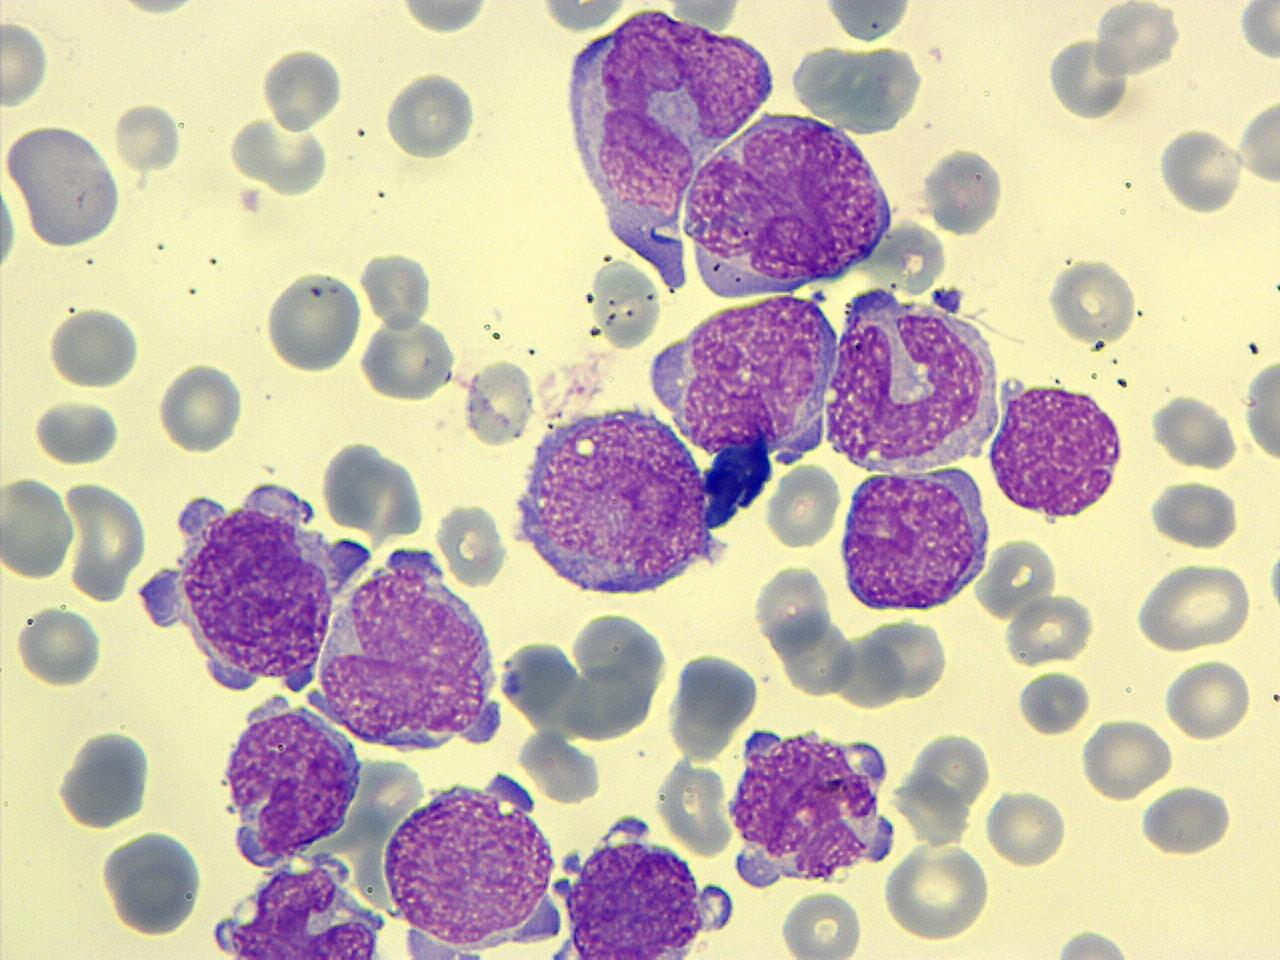Platelets: (54, 728, 156, 830), (1264, 544, 1280, 622)
RBC: (4, 120, 126, 251), (98, 826, 206, 944), (1134, 557, 1256, 655), (883, 838, 993, 943), (60, 476, 150, 602), (262, 267, 364, 375), (357, 314, 459, 404), (383, 67, 479, 162), (155, 357, 247, 455), (47, 303, 143, 392), (1081, 713, 1175, 803), (0, 471, 76, 582), (1155, 124, 1245, 217), (1045, 254, 1139, 343), (226, 113, 328, 195), (921, 143, 1008, 238), (14, 602, 105, 690), (259, 43, 344, 136), (1163, 657, 1255, 742), (1047, 30, 1131, 123), (752, 561, 833, 656), (982, 784, 1070, 870), (1000, 590, 1098, 668), (974, 534, 1060, 621), (588, 254, 664, 352), (1138, 782, 1236, 858), (1148, 390, 1240, 471), (765, 458, 844, 552), (1147, 474, 1241, 552), (1093, 0, 1181, 80), (461, 355, 536, 448), (31, 394, 123, 468), (359, 247, 435, 334), (778, 886, 864, 959), (112, 97, 186, 176), (1016, 666, 1092, 736), (0, 16, 52, 114), (1240, 354, 1280, 469), (1236, 90, 1280, 191), (817, 0, 918, 44), (393, 0, 496, 37), (1046, 925, 1146, 960), (536, 0, 634, 35), (1236, 1, 1280, 64)
WBC: (134, 473, 354, 696), (554, 3, 776, 223), (506, 394, 736, 598), (306, 541, 511, 755), (677, 107, 897, 304), (817, 278, 1004, 482), (377, 767, 566, 956), (644, 286, 842, 460), (720, 720, 903, 892), (218, 692, 366, 874), (834, 460, 995, 616), (553, 814, 727, 958), (984, 378, 1132, 525)
